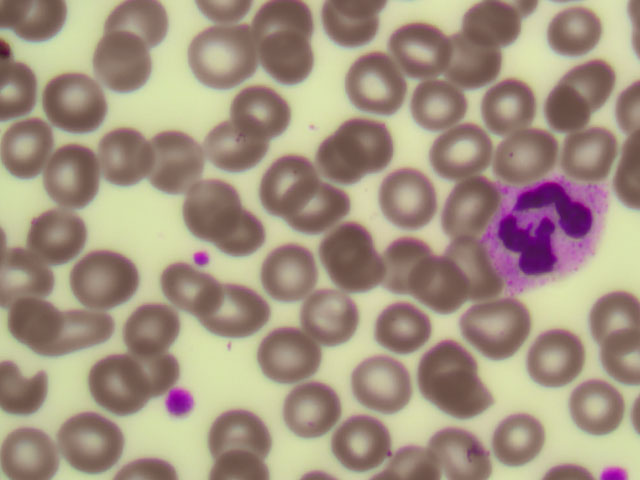Platelets: (161, 385, 199, 417), (186, 251, 220, 268)
RBC: (42, 70, 109, 134), (87, 29, 154, 93), (194, 25, 261, 89), (253, 31, 320, 95), (260, 3, 327, 67), (342, 60, 409, 124), (391, 14, 458, 78), (395, 74, 462, 138), (436, 26, 503, 90), (469, 72, 536, 136), (524, 66, 591, 130), (553, 50, 620, 114), (543, 4, 610, 68), (549, 114, 616, 178), (496, 125, 563, 189), (434, 125, 501, 189), (433, 164, 500, 228), (436, 237, 503, 301), (402, 254, 469, 318), (378, 238, 445, 302), (376, 165, 443, 229), (336, 114, 403, 178), (307, 129, 374, 193), (291, 173, 358, 237), (254, 158, 321, 222), (207, 206, 274, 270), (170, 177, 237, 241), (194, 125, 261, 189), (229, 82, 296, 146), (140, 126, 207, 190), (86, 122, 153, 186), (46, 144, 113, 208), (22, 208, 89, 272), (41, 300, 108, 364), (85, 240, 152, 304), (114, 292, 181, 356), (149, 264, 216, 328), (209, 274, 276, 338), (254, 312, 321, 376), (298, 283, 365, 347), (269, 251, 336, 315), (323, 222, 390, 286), (377, 303, 444, 367), (359, 357, 426, 421), (279, 373, 346, 437), (328, 410, 395, 474), (498, 410, 565, 474), (419, 416, 486, 480), (420, 373, 487, 437), (407, 334, 474, 398), (457, 298, 524, 362), (525, 330, 592, 394), (573, 373, 640, 437), (573, 282, 640, 346), (204, 400, 271, 464), (63, 413, 130, 477), (81, 357, 148, 421), (111, 339, 178, 403), (4, 416, 71, 480), (1, 118, 67, 182), (1, 291, 67, 355), (1, 349, 67, 413), (100, 1, 167, 64), (323, 1, 390, 64), (471, 1, 538, 64)
WBC: (483, 178, 604, 291)
